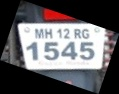character: (60, 40, 77, 60), (43, 40, 59, 60), (79, 41, 94, 60), (26, 40, 38, 60), (34, 28, 43, 39), (62, 28, 70, 39), (73, 28, 81, 39), (81, 28, 89, 39), (44, 28, 52, 38), (56, 28, 62, 38)
